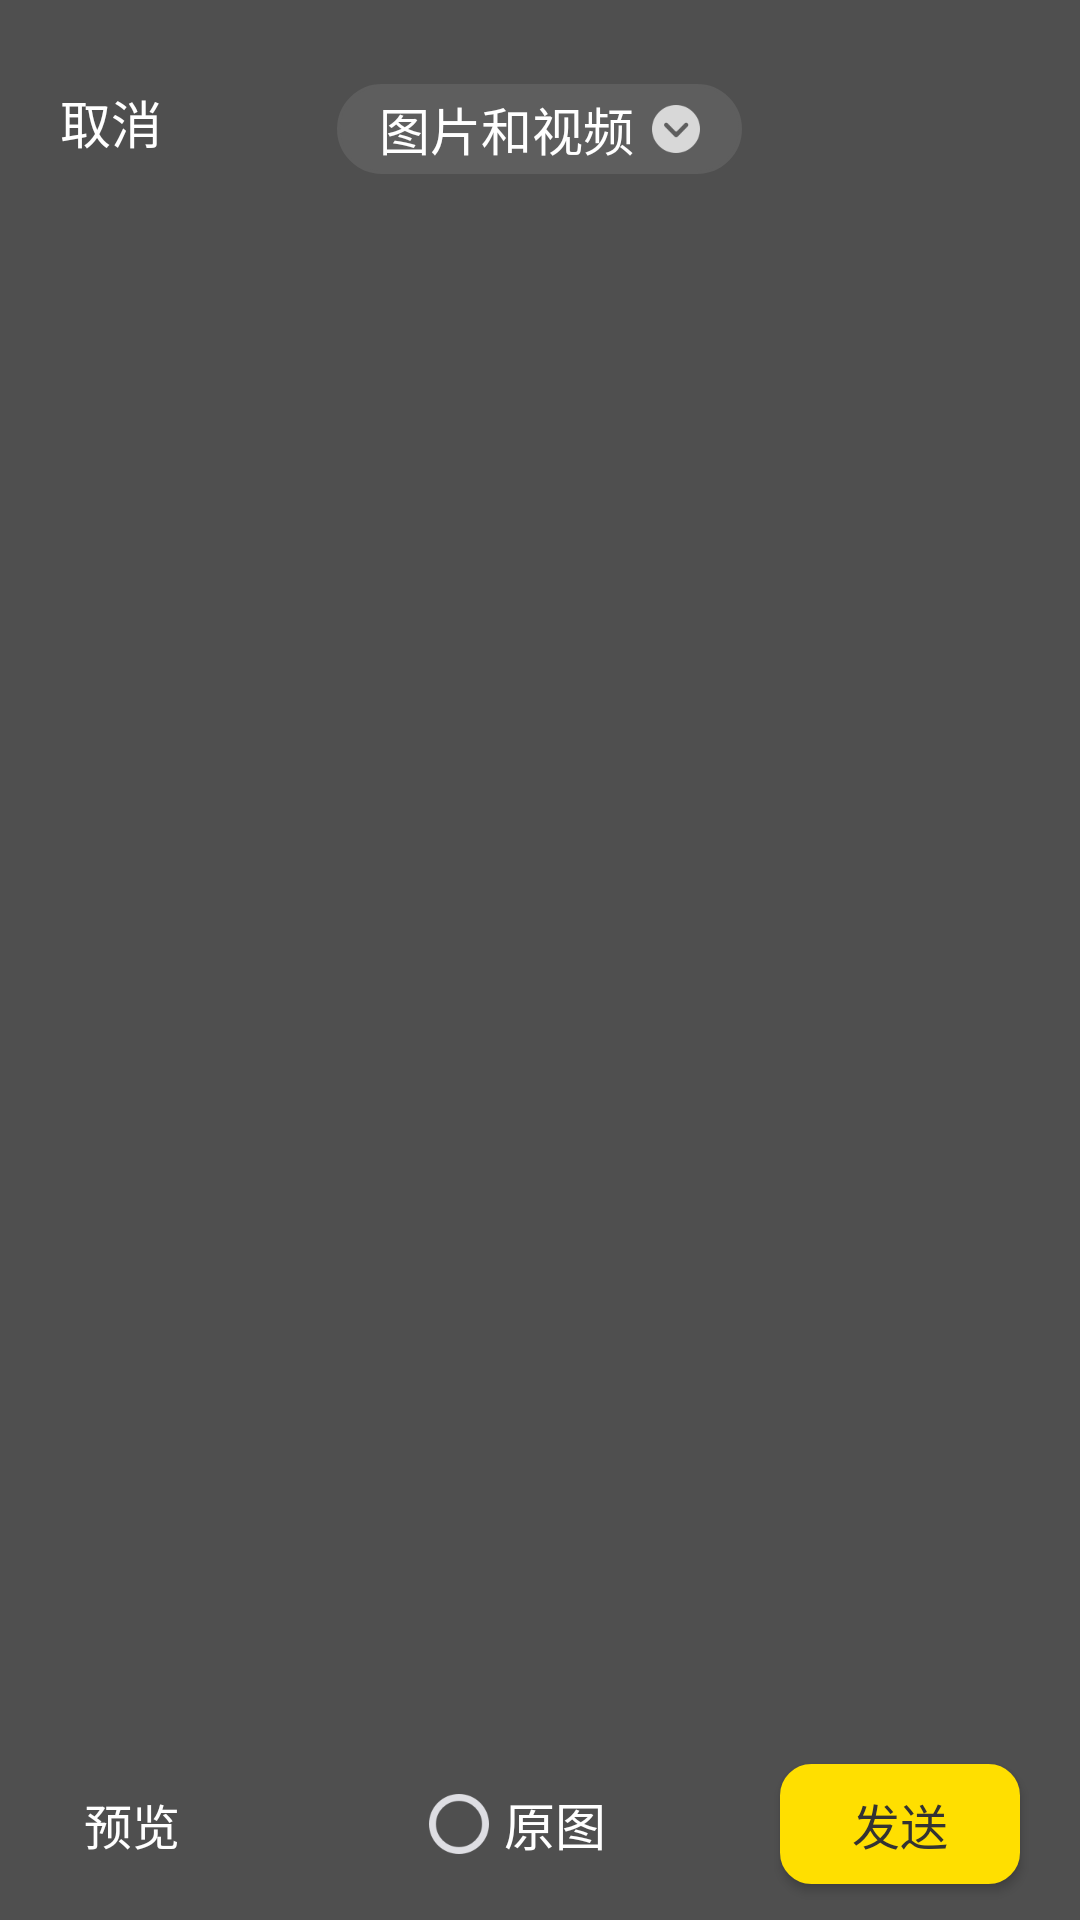

Point at icon controls on the screen. Image size 1080 × 1920, points as (x=x, y=y).
open menu: (x=676, y=129)
